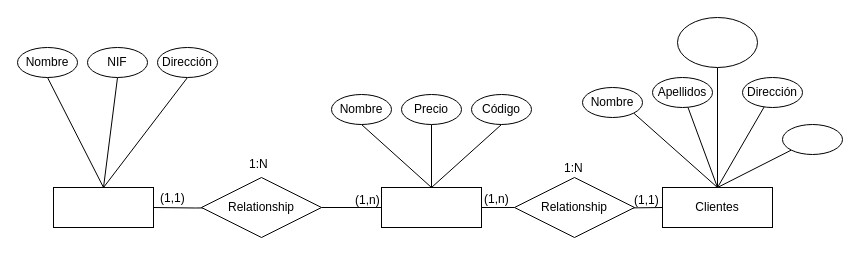
This 860x255 diagram has some shape labels left out. Each missing label, with the centre of its shape:
"DNI" goes at (812,139).
"Fecha de nacimiento" goes at (717,42).
"Productos" goes at (431,207).
"Proveedor" goes at (103,207).
